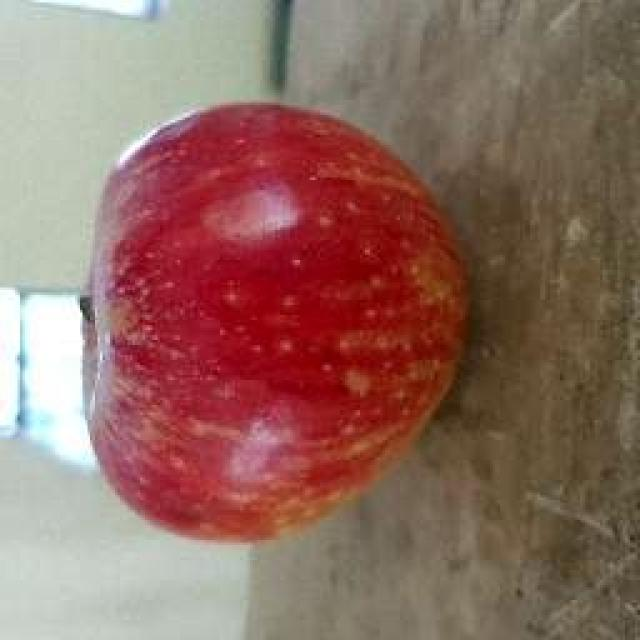Good_Apple: (80, 100, 472, 548)
